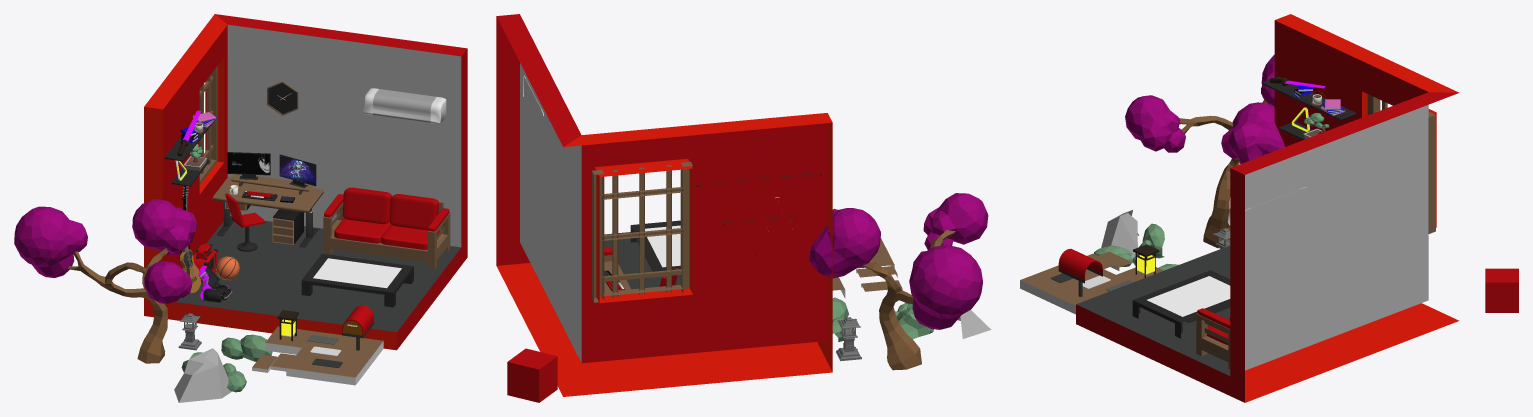
The model's file is room_v32.glb.
3 renders of one model, left to right at view 1: azimuth 30°, elevation 25°; view 2: azimuth 150°, elevation 25°; view 3: azimuth 270°, elevation 25°, orthographic. The views are drawn at different scales.
Parts seen in each view (by area): view 1: Body, DecoExt, Furnitures, MiniFloor, Hobbies, AirConditioner, Computers, Shelves, FloorItems, TableStuff, Clock, Mailbox (+1 smaller); view 2: Body, DecoExt, Cube, Furnitures, MiniFloor; view 3: Body, DecoExt, Furnitures, MiniFloor, Shelves, Cube, Mailbox, ExteriorLamp.
Boxes of the visible parts, x1,y1,x2,y2 form: Body: (144,14,467,350); DecoExt: (14,199,272,402); Furnitures: (212,176,450,307); MiniFloor: (265,326,383,385); Hobbies: (179,186,239,302); AirConditioner: (363,88,446,124); Computers: (227,152,316,187); Shelves: (164,110,217,186); FloorItems: (225,193,303,251); TableStuff: (229,174,313,202); Clock: (267,81,298,115); Mailbox: (342,305,373,350); Body: (496,14,832,396); DecoExt: (809,193,991,370); Cube: (507,348,557,402); Furnitures: (604,220,680,291); MiniFloor: (832,238,894,298); Body: (1076,14,1459,402); DecoExt: (1094,54,1284,270); Furnitures: (1132,270,1230,369); MiniFloor: (1020,265,1163,314); Shelves: (1262,76,1356,140); Cube: (1485,268,1518,312); Mailbox: (1058,248,1102,296); ExteriorLamp: (1133,244,1159,277).
Bounding box in the file's own units: 7.35 × 3.72 × 6.83.
75 materials, 4 textured.
